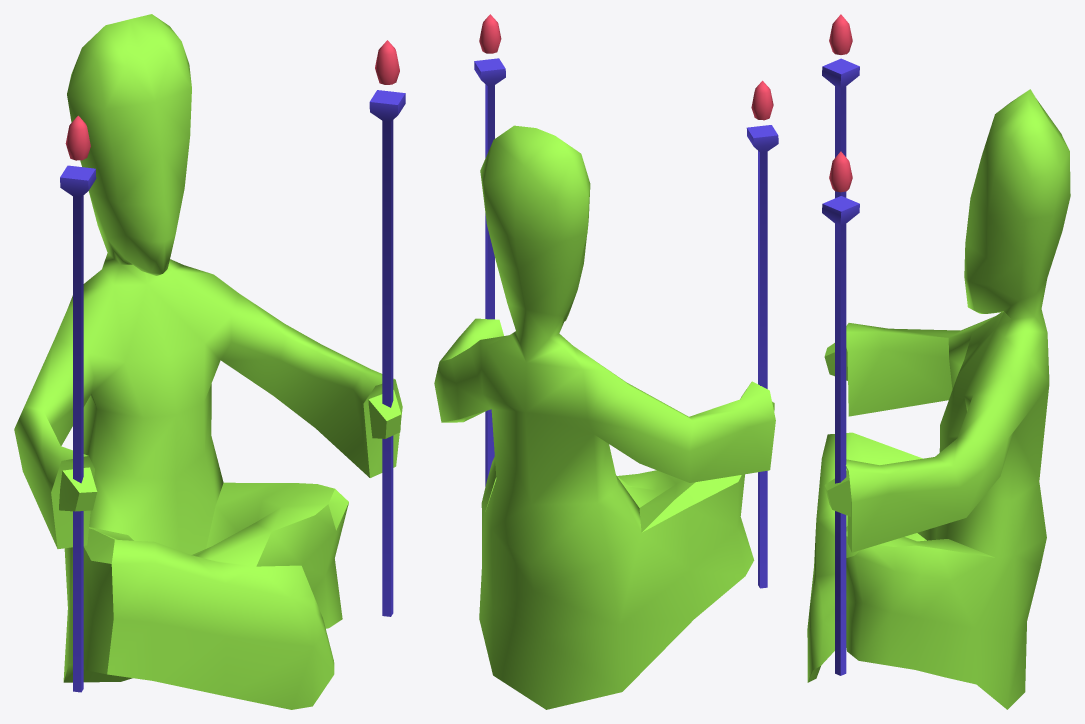
File: GravityPope.FBX
The picture shows the model from 3 angles, left to right: view 1: azimuth 30°, elevation 25°; view 2: azimuth 150°, elevation 25°; view 3: azimuth 270°, elevation 25°; orthographic projection. The views are drawn at different scales.
Parts seen in each view (by area): view 1: GravityPope; view 2: GravityPope; view 3: GravityPope.
Boxes of the visible parts, x1,y1,x2,y2 form: GravityPope: (14, 14, 405, 709); GravityPope: (434, 14, 778, 709); GravityPope: (807, 14, 1070, 709).
Bounding box in the file's own units: 6.52 × 4.65 × 11.97.
Materials: 1 (1 with a texture image).
